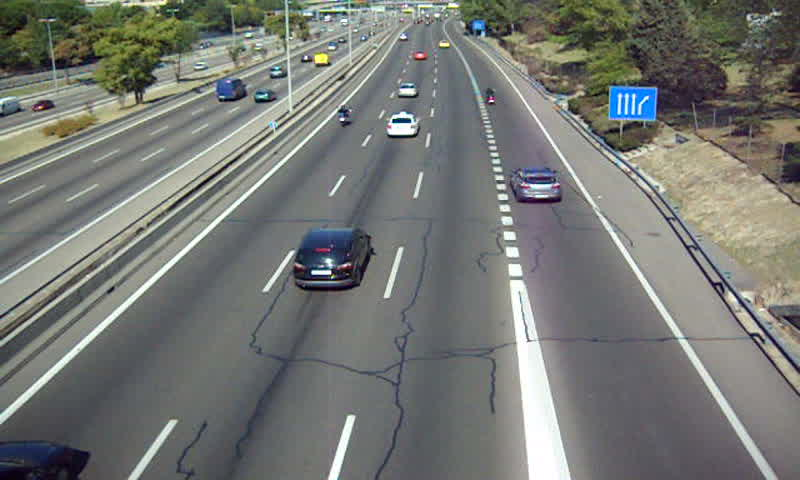car: (292, 228, 372, 290), (511, 167, 561, 203), (387, 112, 417, 138), (396, 82, 418, 98), (411, 50, 429, 62)
motorcycle: (336, 103, 352, 127), (484, 86, 496, 107)
